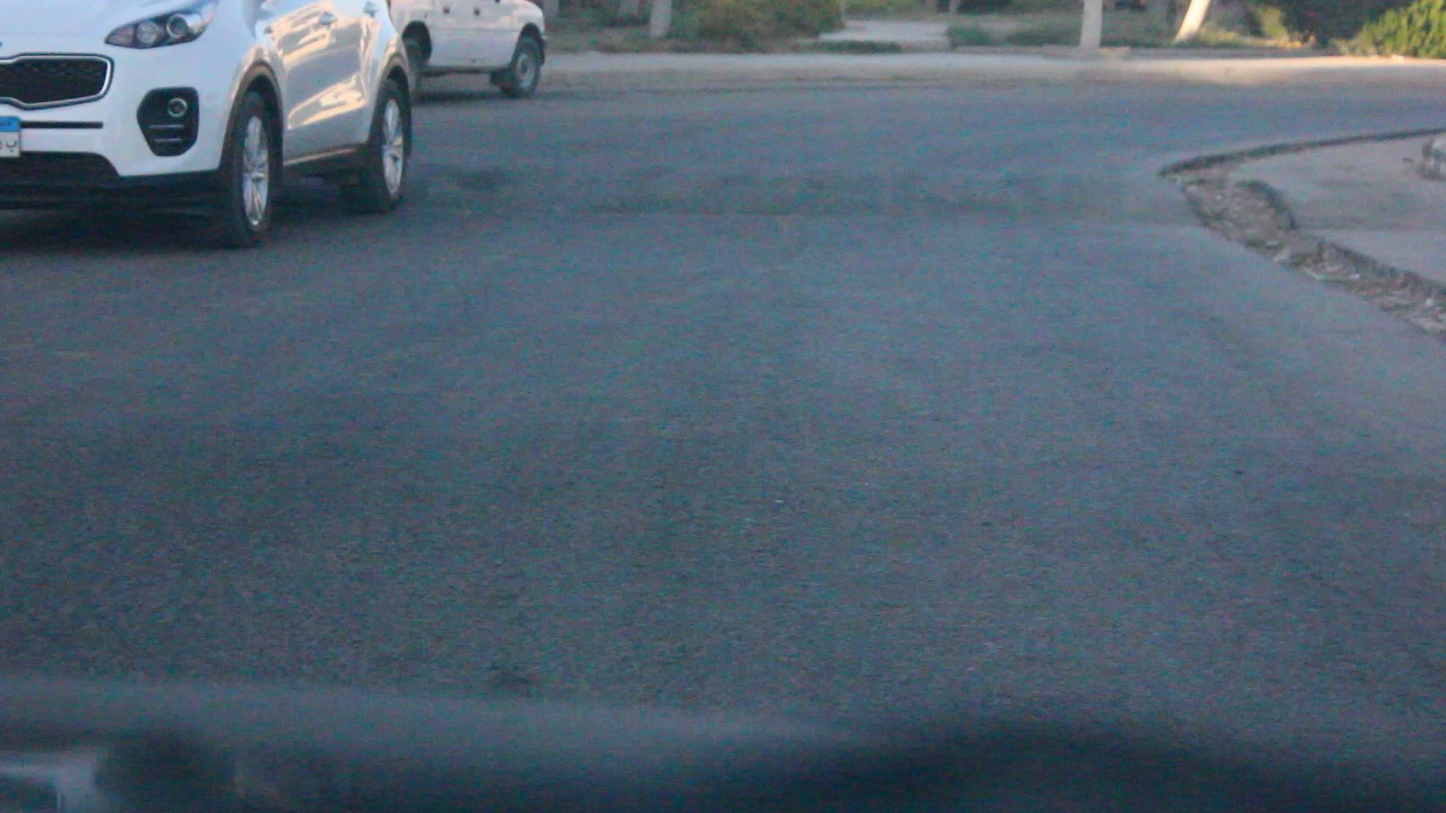Bump: (416, 151, 1197, 231)
